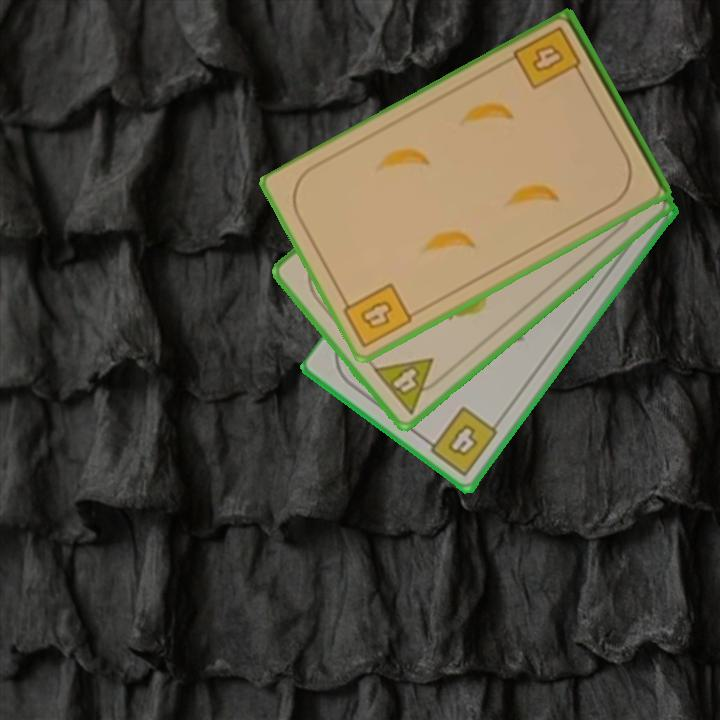4b: (420, 403, 501, 479), (337, 279, 416, 350), (510, 23, 588, 93)
4p: (369, 354, 450, 417)
